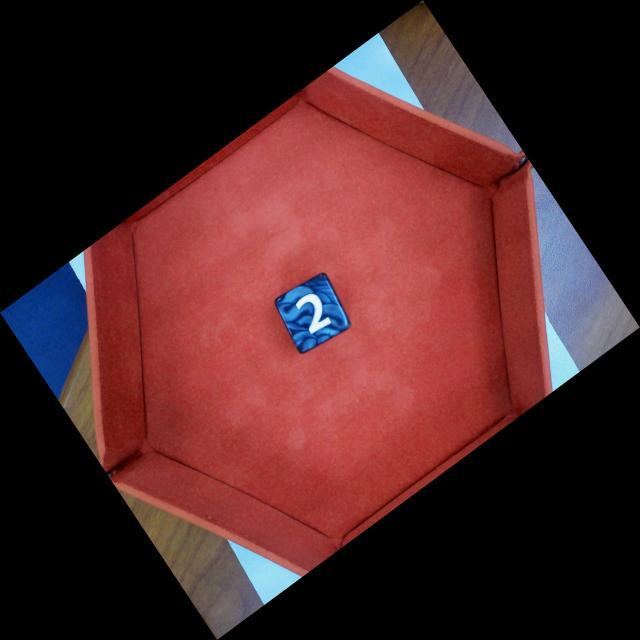dice: (275, 271, 353, 355)
